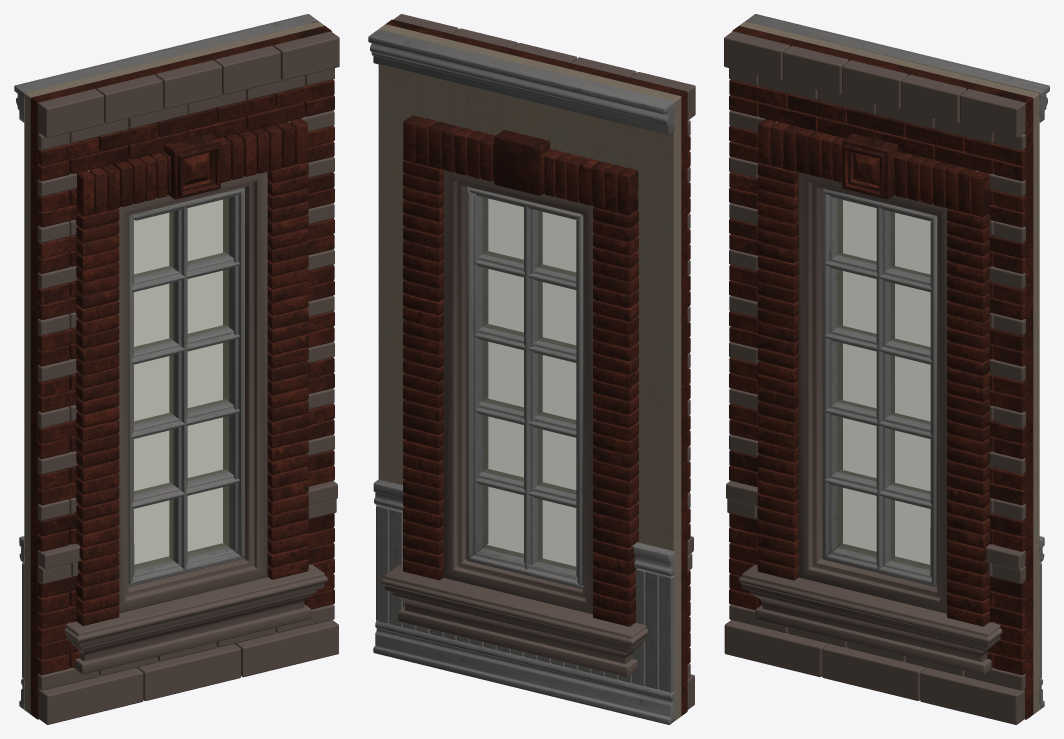
File: SK4 WINDOW 1.fbx
3 renders of one model, left to right at view 1: azimuth 30°, elevation 25°; view 2: azimuth 150°, elevation 25°; view 3: azimuth 330°, elevation 25°, orthographic.
Visible parts, largest first — view 1: SK4 WINDOW 1.024; view 2: SK4 WINDOW 1.024; view 3: SK4 WINDOW 1.024.
Part boxes in pixels (bbox=[...]): SK4 WINDOW 1.024: bbox=[14, 14, 339, 724]; SK4 WINDOW 1.024: bbox=[368, 14, 695, 724]; SK4 WINDOW 1.024: bbox=[724, 14, 1049, 724].
Bounding box in the file's own units: 200 × 400 × 57.36.
